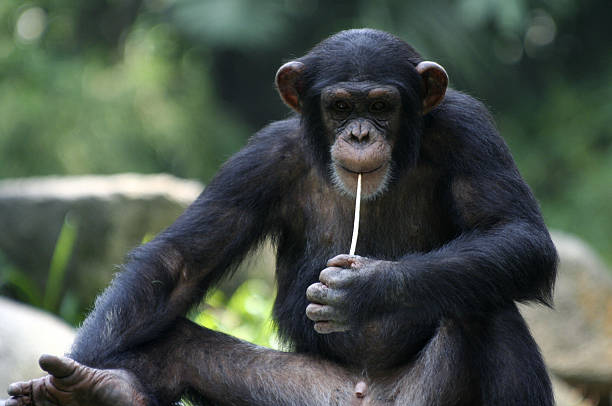chimpanzee: (260, 10, 463, 214)
